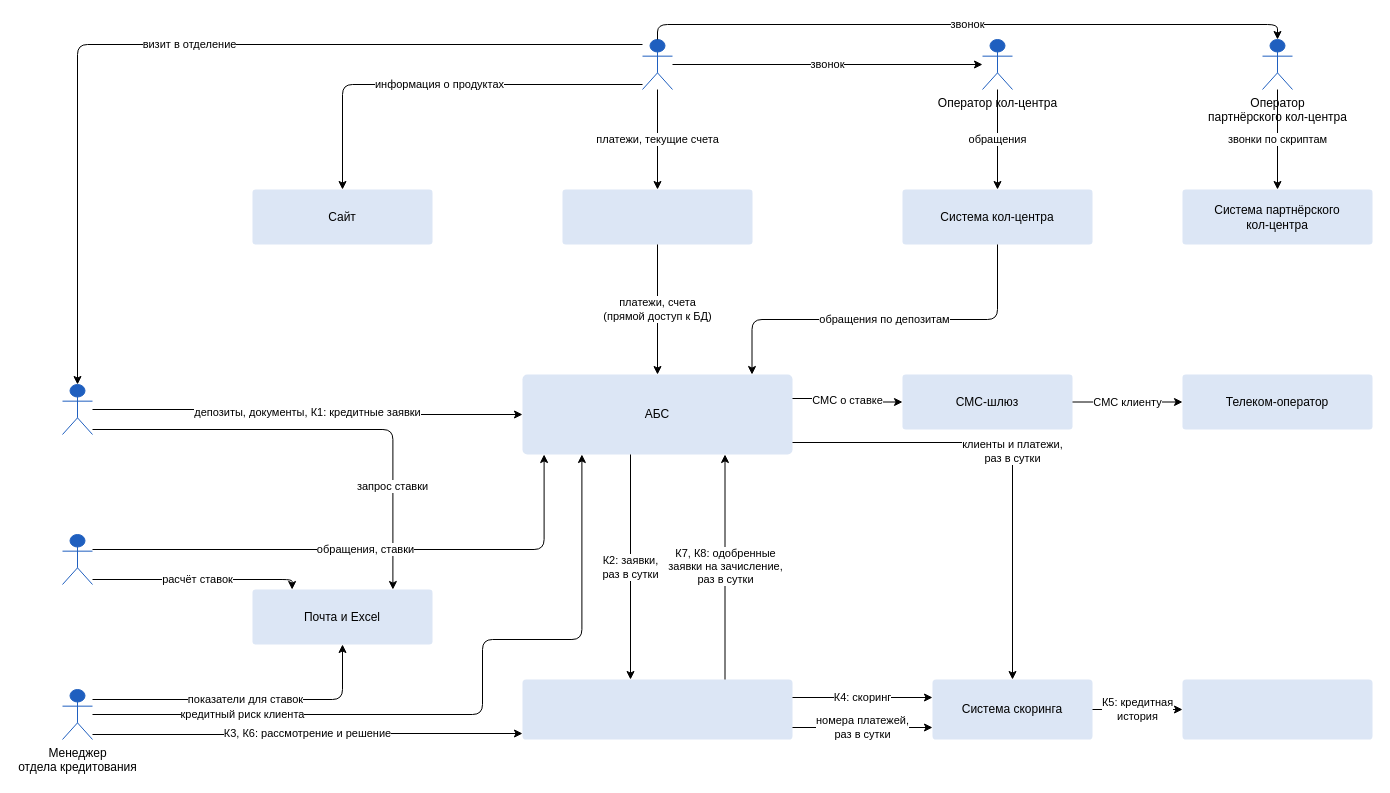
Some shapes in this 1390 by 793 pixel diagram are drawn without their labels. The shapes that lost their labels are listed below. From the top down, each one's centre as x and y in pixels, then its label:
At pixel 657 64: "Клиент".
At pixel 657 216: "Интернет-банк".
At pixel 77 409: "Сотрудник отделения".
At pixel 77 559: "Менеджер бэк-офиса депозитов".
At pixel 657 709: "Кредитный конвейер".
At pixel 1277 709: "Бюро кредитных историй".
